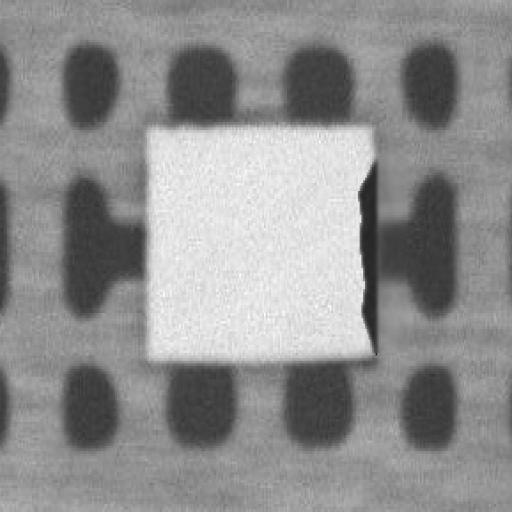DIE_BROKEN: (352, 167, 378, 348)
